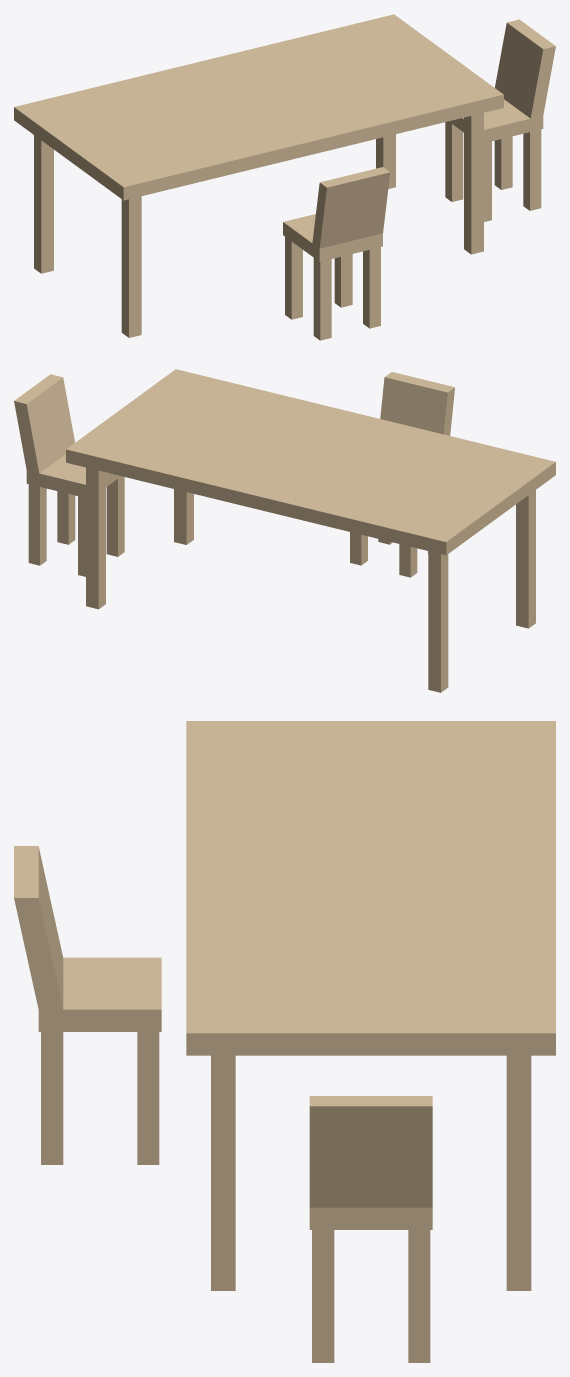
The picture shows the model from 3 angles, top to bottom: view 1: azimuth 30°, elevation 25°; view 2: azimuth 150°, elevation 25°; view 3: azimuth 270°, elevation 25°; orthographic projection. The views are drawn at different scales.
Parts seen in each view (by area): view 1: Cube.317, Cube.329, Cube.323, Cube.319, Cube.320, Cube.318, Cube.328, Cube.322, Cube.332, Cube.326, Cube.324, Cube.331 (+5 smaller); view 2: Cube.317, Cube.323, Cube.329, Cube.318, Cube.321, Cube.319, Cube.322, Cube.325, Cube.327, Cube.320, Cube.326, Cube.324 (+2 smaller); view 3: Cube.317, Cube.323, Cube.328, Cube.321, Cube.320, Cube.329, Cube.325, Cube.326, Cube.330, Cube.331, Cube.322.
Part boxes in pixels (x1,y1,x2,y2): Cube.317: [14, 14, 503, 200]; Cube.329: [312, 167, 390, 248]; Cube.323: [495, 19, 555, 118]; Cube.319: [121, 196, 141, 337]; Cube.320: [464, 113, 483, 254]; Cube.318: [34, 135, 53, 273]; Cube.328: [283, 214, 382, 261]; Cube.322: [449, 99, 543, 143]; Cube.332: [313, 258, 331, 340]; Cube.326: [523, 129, 541, 210]; Cube.324: [445, 121, 463, 201]; Cube.331: [363, 247, 380, 328]; Cube.317: [66, 369, 555, 555]; Cube.323: [14, 374, 74, 473]; Cube.329: [380, 372, 454, 435]; Cube.318: [428, 551, 448, 692]; Cube.321: [86, 467, 105, 609]; Cube.319: [516, 490, 535, 628]; Cube.322: [26, 454, 120, 497]; Cube.325: [28, 484, 46, 565]; Cube.327: [106, 476, 124, 556]; Cube.320: [174, 489, 193, 544]; Cube.326: [57, 491, 75, 544]; Cube.324: [78, 496, 85, 576]; Cube.317: [186, 721, 555, 1055]; Cube.323: [309, 1096, 432, 1207]; Cube.328: [38, 957, 161, 1031]; Cube.321: [506, 1055, 531, 1290]; Cube.320: [211, 1055, 235, 1290]; Cube.329: [14, 846, 63, 1009]; Cube.325: [408, 1230, 430, 1362]; Cube.326: [312, 1230, 334, 1362]; Cube.330: [137, 1032, 159, 1164]; Cube.331: [41, 1032, 63, 1164]; Cube.322: [309, 1207, 432, 1229].
Size of the model in its own units: 3.7 by 1.2 by 2.2.
